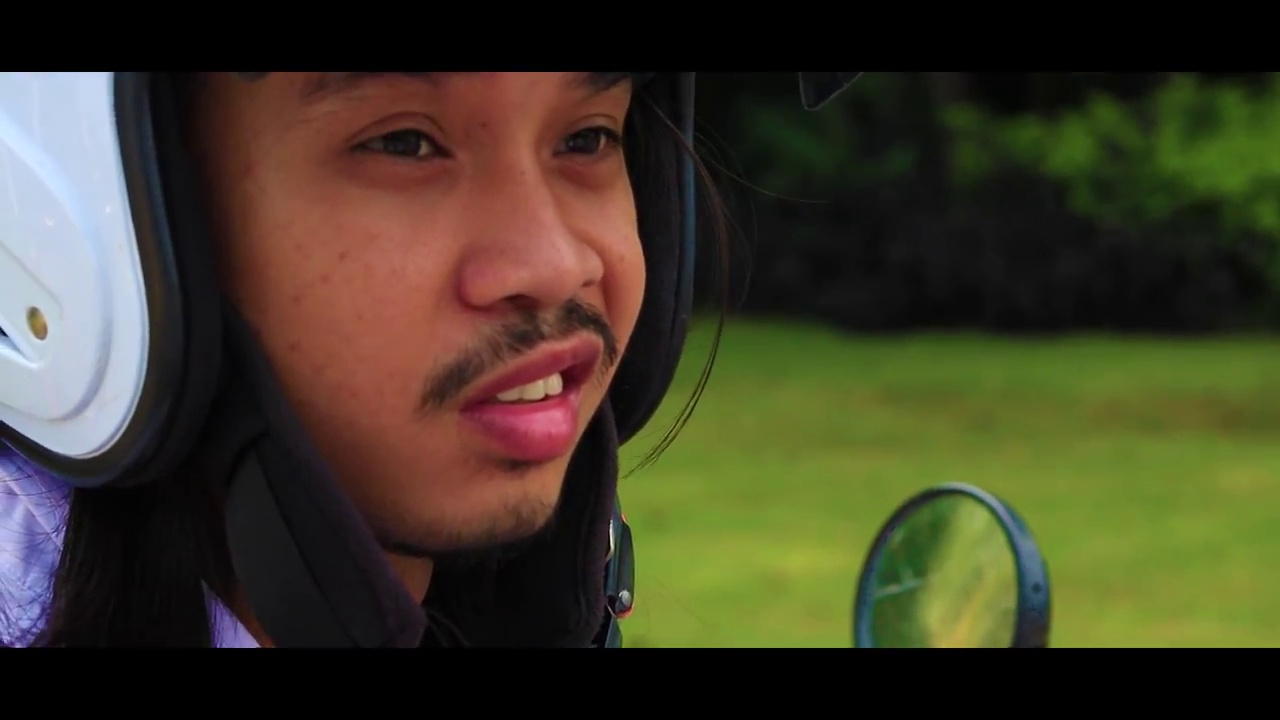helmet: (0, 64, 681, 460)
